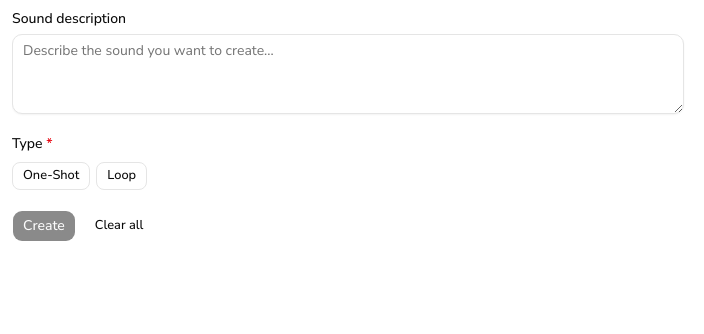
SoundsCreationForm › surfaces an error notice when generation fails
Step 1. Type "a punchy kick" into the text box labelled "Sound description" → coordinates (348, 74), box [12,34,684,114]
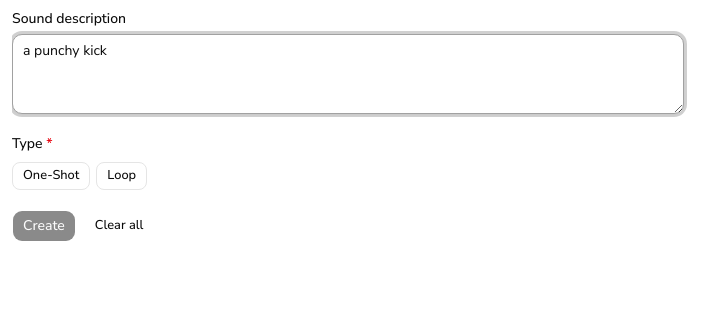
Step 2. Click the button "One-Shot" → coordinates (51, 176), box [12,162,90,190]
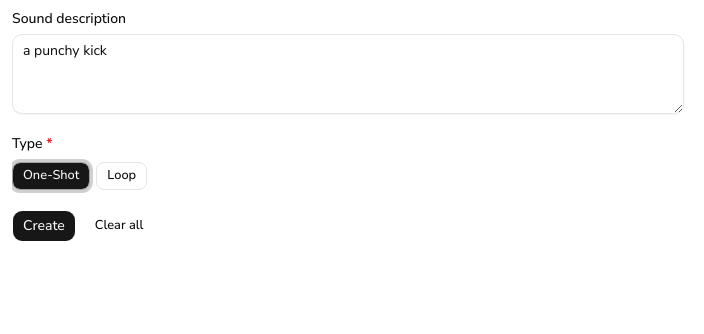
Step 3. Click the button "Create" → coordinates (44, 226), box [12,210,76,242]
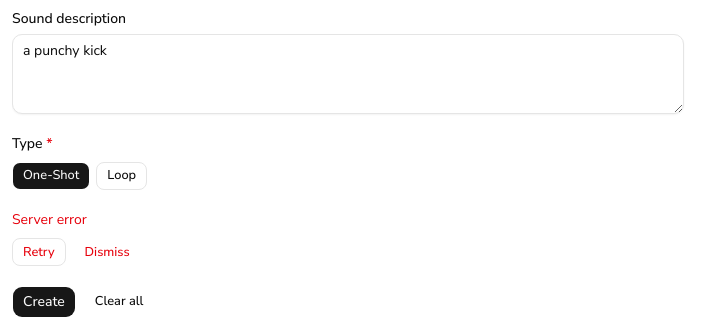
Expected: the message shows "Server error", [12,210,87,229]
